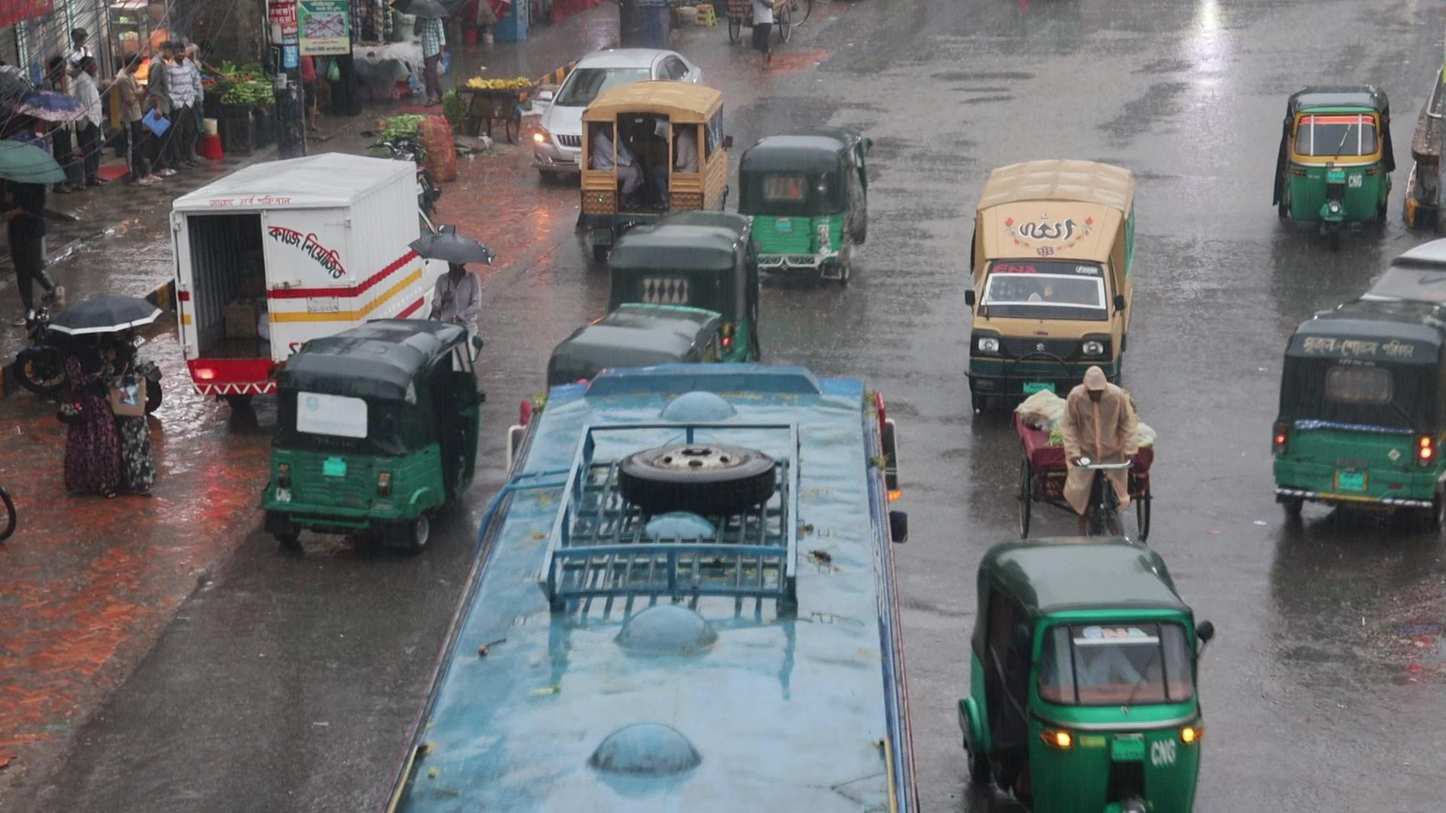Bus: (380, 352, 916, 813)
Truck: (956, 155, 1142, 445), (572, 76, 733, 270)
